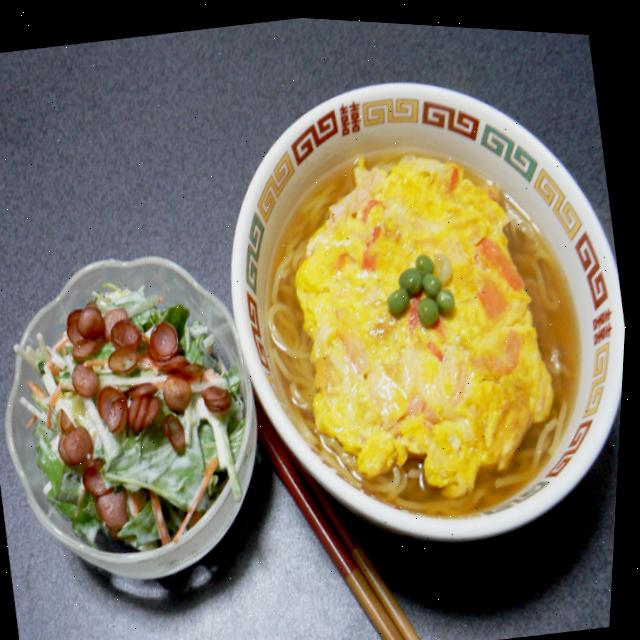面条主食: (264, 106, 585, 512)
